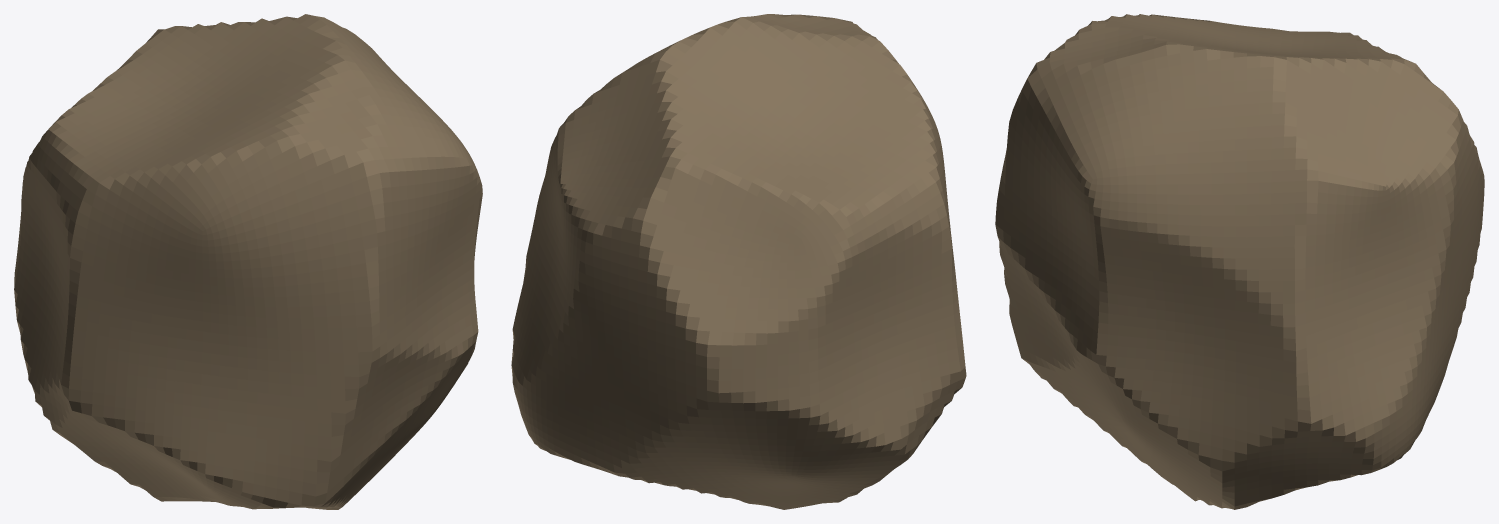
File: RockTest1.fbx
The picture shows the model from 3 angles, left to right: view 1: azimuth 30°, elevation 25°; view 2: azimuth 150°, elevation 25°; view 3: azimuth 270°, elevation 25°; orthographic projection. The views are drawn at different scales.
Parts seen in each view (by area): view 1: Cube; view 2: Cube; view 3: Cube.
Part boxes in pixels (x1,y1,x2,y2): Cube: [14, 14, 482, 509]; Cube: [511, 14, 966, 509]; Cube: [995, 14, 1484, 509].
Size of the model in its own units: 182 by 193 by 189.
